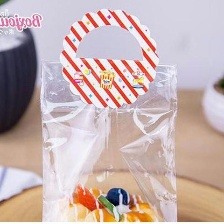snack: (30, 2, 190, 221)
